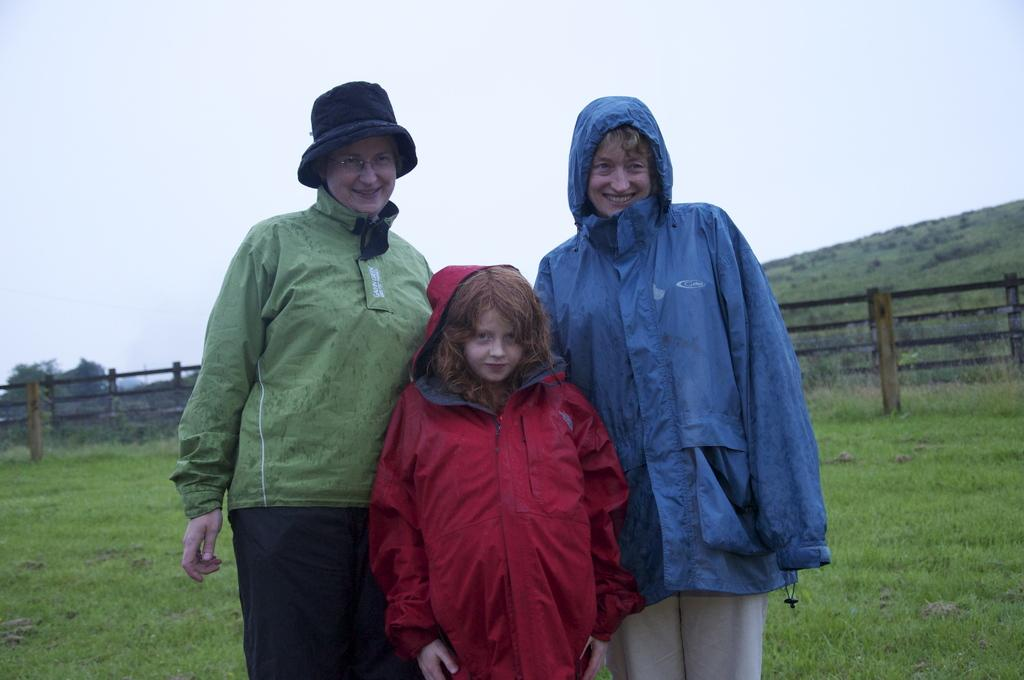Hat: (295, 80, 419, 192)
